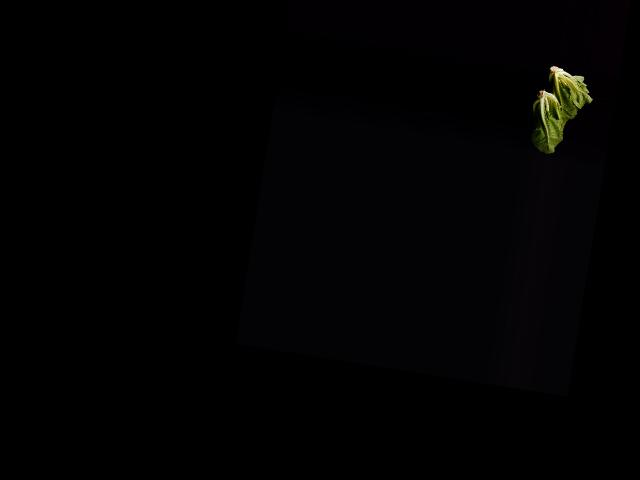lettuce: (534, 64, 596, 132)
